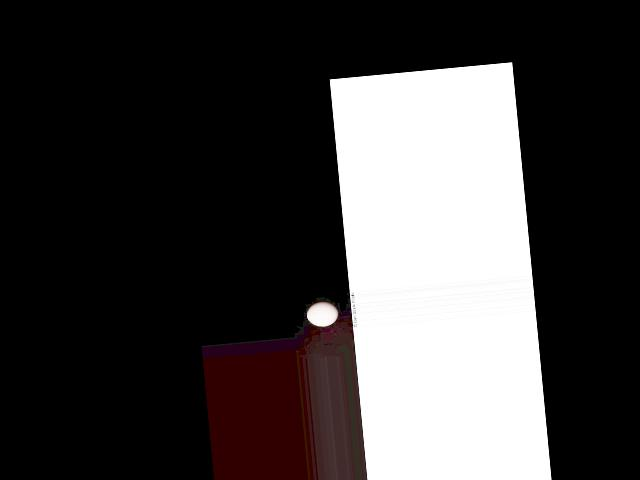egg: (305, 300, 339, 327)
